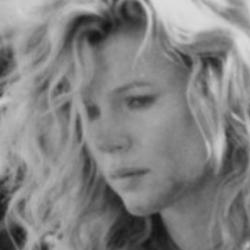face: (10, 3, 244, 235)
